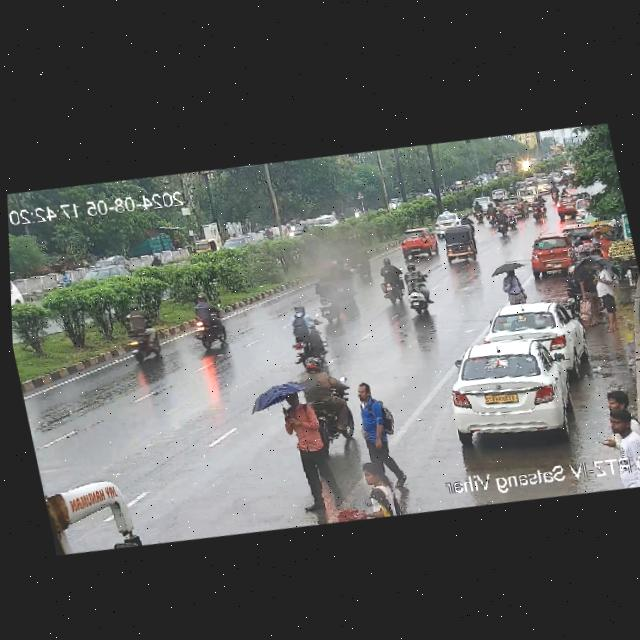bus: (41, 460, 147, 560)
car: (440, 326, 581, 451), (483, 291, 586, 372), (515, 227, 578, 278), (68, 249, 132, 287), (436, 225, 483, 270), (546, 181, 591, 225), (396, 226, 438, 263), (429, 209, 462, 236), (504, 193, 528, 217), (514, 185, 538, 205), (489, 186, 509, 203), (536, 176, 551, 191), (549, 171, 562, 183), (561, 165, 575, 176)
motorcycle: (300, 352, 358, 442), (275, 301, 329, 365), (114, 304, 170, 365), (183, 288, 234, 351), (399, 254, 435, 319), (314, 273, 343, 324), (376, 255, 405, 305), (328, 255, 356, 302), (487, 204, 516, 238), (470, 194, 499, 227), (350, 240, 371, 279), (496, 203, 520, 233), (527, 192, 550, 223), (480, 200, 500, 224), (471, 200, 488, 223), (460, 214, 474, 233), (548, 182, 559, 203), (505, 183, 517, 196), (566, 172, 576, 184), (561, 172, 569, 186)
person: (274, 388, 343, 513), (355, 379, 401, 486), (352, 457, 399, 521), (566, 258, 602, 334), (599, 401, 640, 464), (590, 262, 623, 335), (601, 385, 640, 436), (492, 264, 528, 308), (599, 232, 612, 259), (591, 228, 603, 245)
